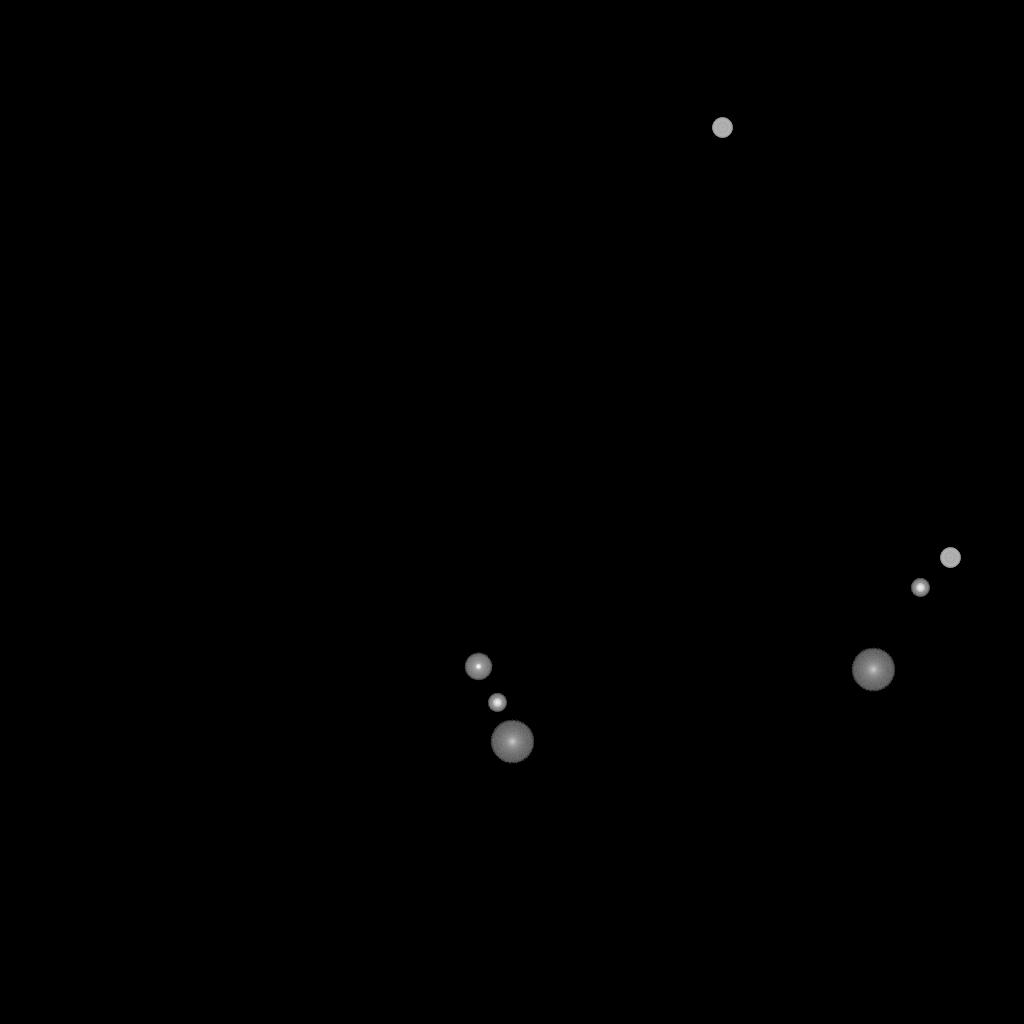depth:-10: (464, 653, 492, 681)
depth:-20: (488, 694, 506, 712), (911, 579, 929, 597)
depth:-40: (940, 548, 960, 568), (712, 118, 732, 138)
depth:10: (490, 720, 534, 764), (851, 648, 895, 692)
